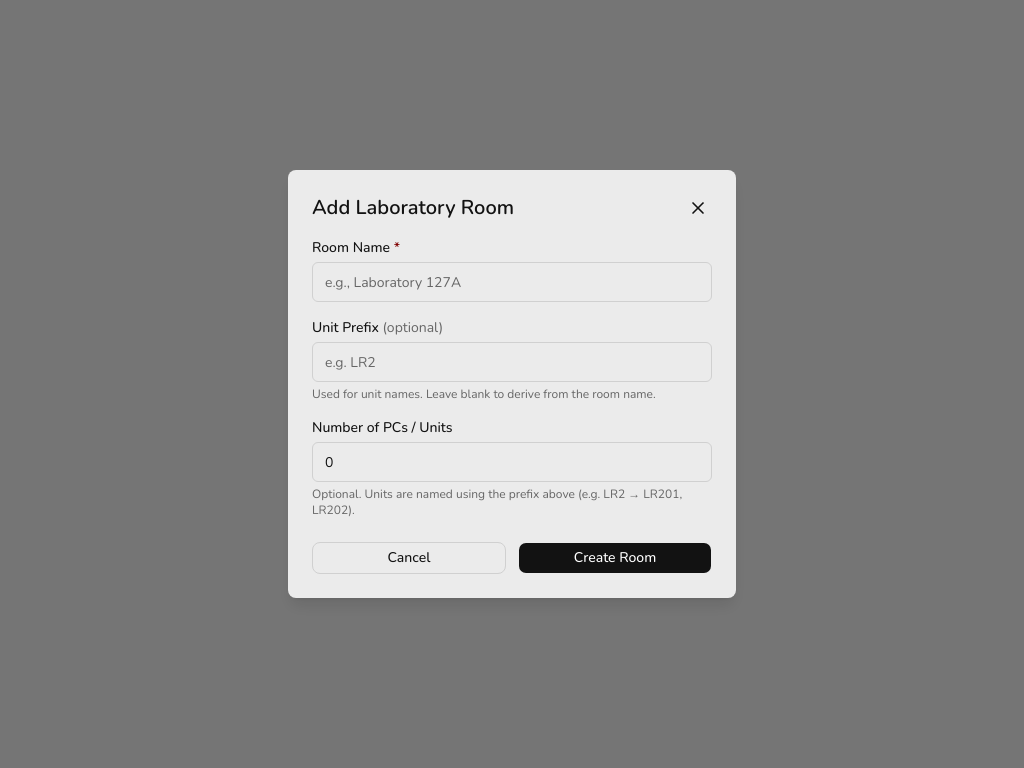
Test: AddRoomForm › shows error message when server action fails
Type "Duplicate" into the field labelled "Room Name *". click: [512, 282]
box: [312, 262, 712, 302]
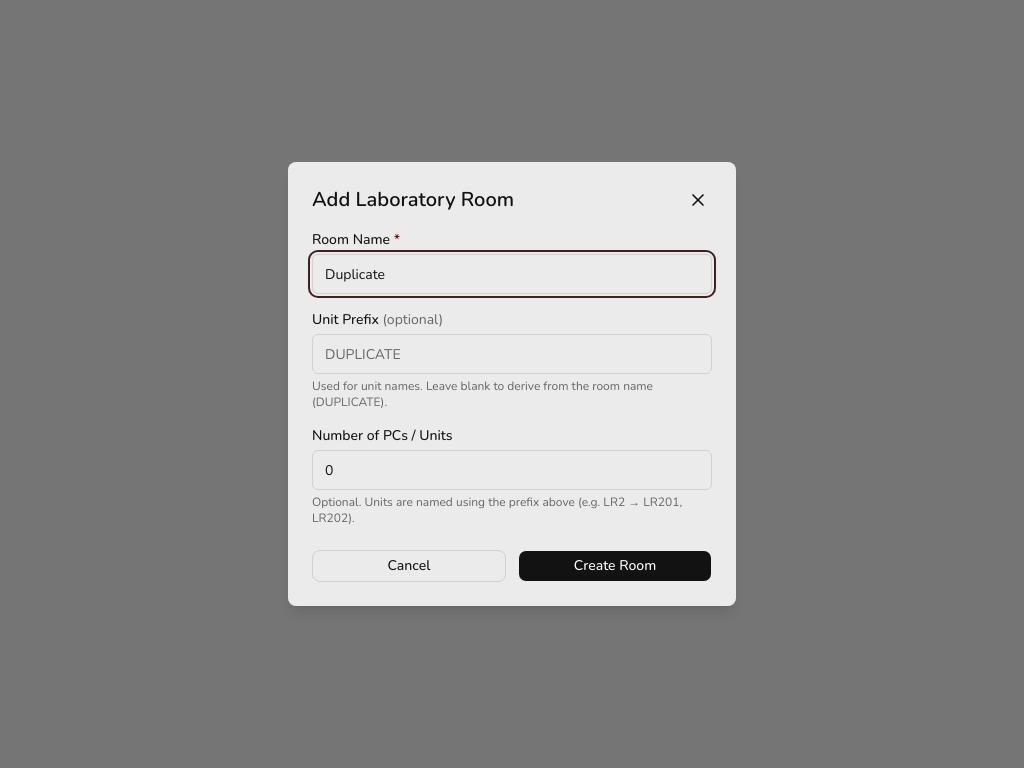
Click the button "Create Room". click: [615, 566]
box: [518, 550, 712, 582]
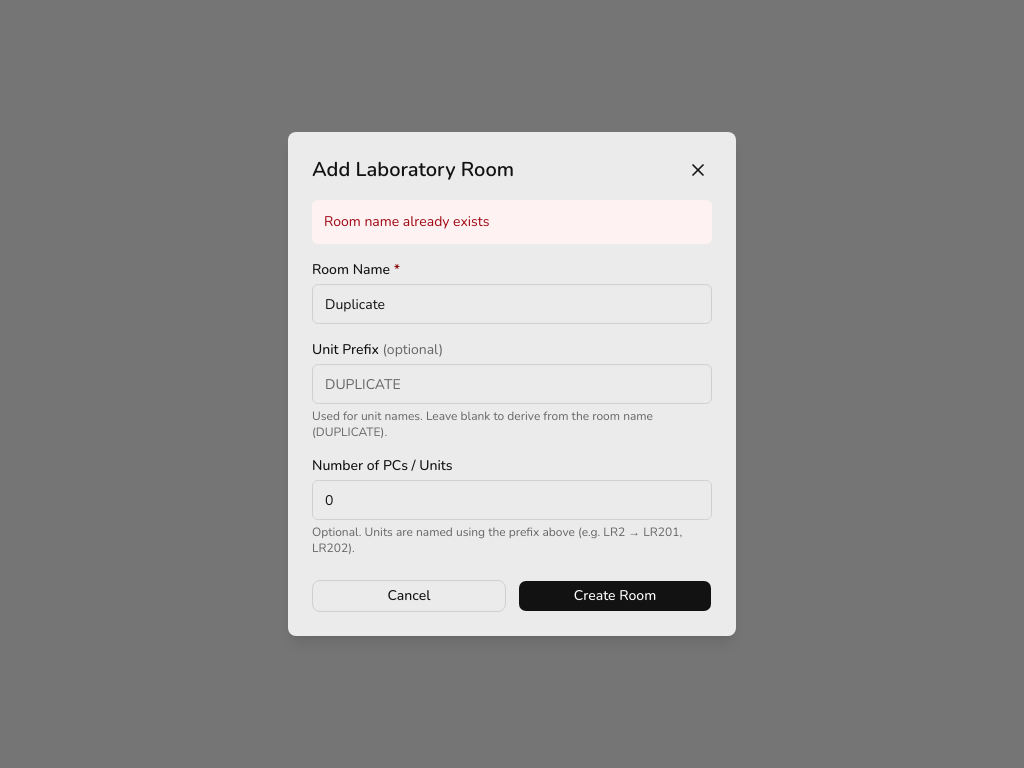
Check: the text "Room name already exists" is shown, box [312, 200, 712, 244]
